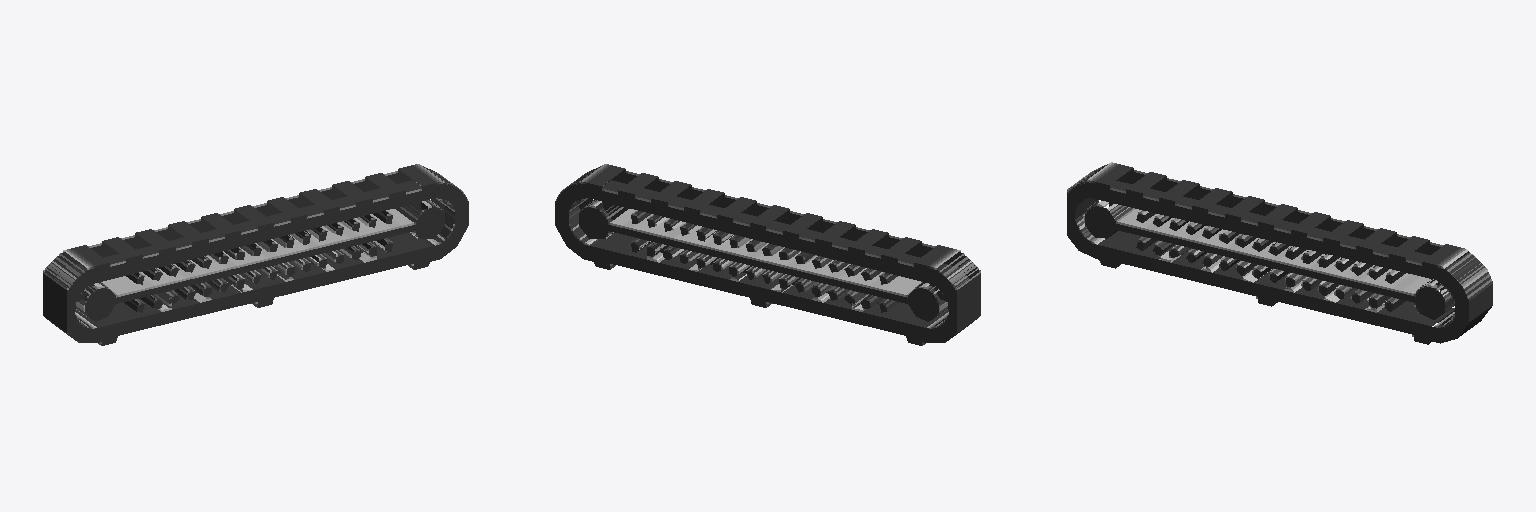
3 renders of one model, left to right at view 1: azimuth 30°, elevation 25°; view 2: azimuth 150°, elevation 25°; view 3: azimuth 330°, elevation 25°, orthographic.
Visible parts, largest first — view 1: Object.1; view 2: Object.1; view 3: Object.1.
Boxes of the visible parts, x1,y1,x2,y2 form: Object.1: [43, 164, 468, 345]; Object.1: [555, 164, 980, 345]; Object.1: [1067, 162, 1492, 344].
Size of the model in its own units: 49.78 by 9.65 by 5.18.
1 materials, 1 textured.